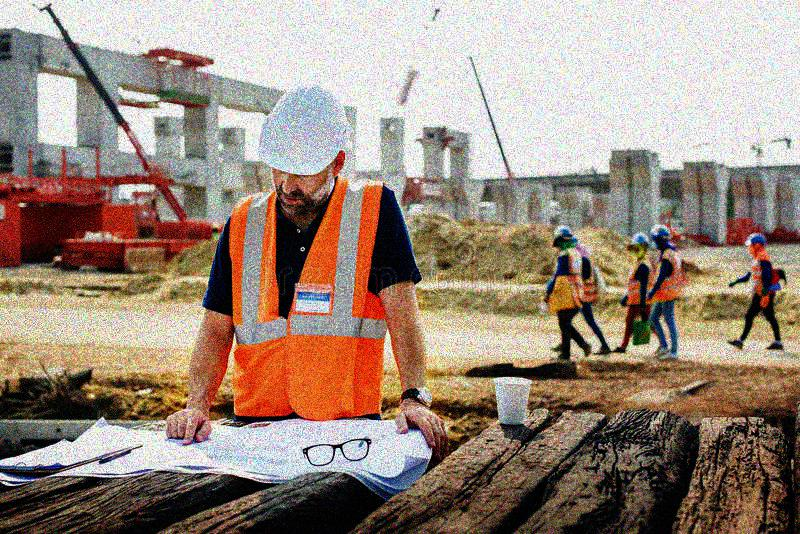helmet: (255, 86, 358, 220), (650, 223, 671, 252), (554, 225, 576, 251), (746, 233, 766, 257), (631, 231, 650, 255)
